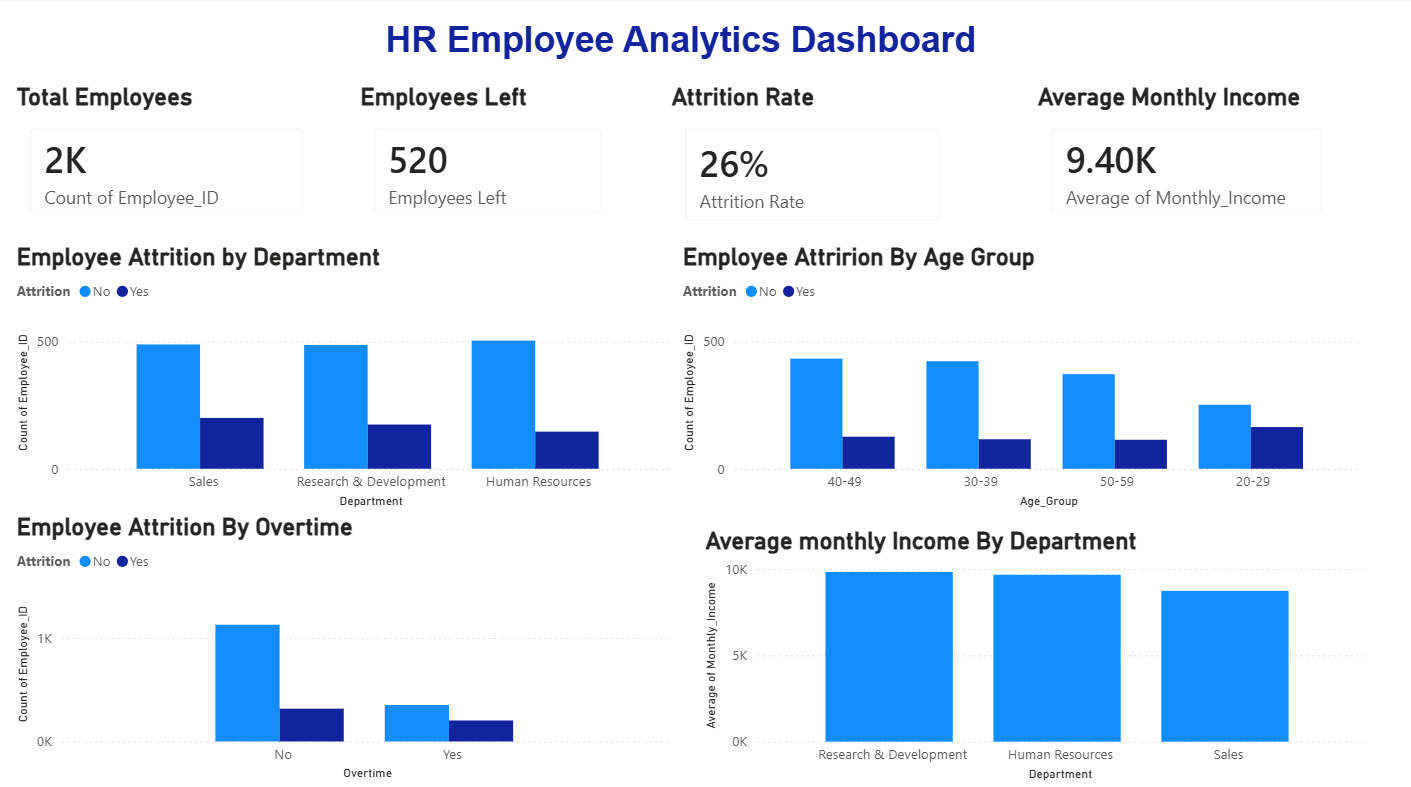

What the dashboard file says about the page in this screenshot:
{"tool":"powerbi","page":{"name":"Page 1","canvas":[1280,720],"ordinal":0},"visuals":[{"type":"cardVisual","title":"Total Employees","fields":{"Data":["CountNonNull(HR_Data.Employee_ID)"]},"box":[9.8,78.3,280,133.3],"z":0},{"type":"cardVisual","title":"Employees Left","fields":{"Data":["HR_Data.Employees Left"]},"box":[320.4,78.3,239.7,133.3],"z":2},{"type":"cardVisual","title":"Attrition Rate","fields":{"Data":["HR_Data.Attrition Rate"]},"box":[600.4,78.3,264.1,141.8],"z":3},{"type":"cardVisual","title":"Average Monthly Income","fields":{"Data":["Avg(HR_Data.Monthly_Income)"]},"box":[930.6,78.3,278.8,133.3],"z":4},{"type":"clusteredColumnChart","title":"Employee Attrition by Department","fields":{"Category":["HR_Data.Department"],"Series":["HR_Data.Attrition"],"Y":["CountNonNull(HR_Data.Employee_ID)"]},"box":[9.8,222.6,601.6,243.3],"z":5},{"type":"clusteredColumnChart","title":"Employee Attririon By Age Group","fields":{"Category":["HR_Data.Age_Group"],"Series":["HR_Data.Attrition"],"Y":["CountNonNull(HR_Data.Employee_ID)"]},"box":[611.4,222.6,622.4,243.3],"z":6},{"type":"clusteredColumnChart","title":"Employee Attrition By Overtime","fields":{"Category":["HR_Data.Overtime"],"Series":["HR_Data.Attrition"],"Y":["CountNonNull(HR_Data.Employee_ID)"]},"box":[9.8,465.9,601.6,245.8],"z":7},{"type":"clusteredColumnChart","title":"Average monthly Income By Department","fields":{"Category":["HR_Data.Department"],"Y":["Avg(HR_Data.Monthly_Income)"]},"box":[631,478.1,602.9,233.6],"z":8},{"type":"textbox","box":[342.4,15.9,727.6,62.4],"z":9}]}

Visuals, with their boxes in screenshot pixels (x1, y1, x2, y2), scaled from the page's 1280x720 canvas onto the 1411x787 screenshot:
"Total Employees" cardVisual: box=[11, 86, 319, 231]
"Employees Left" cardVisual: box=[353, 86, 617, 231]
"Attrition Rate" cardVisual: box=[662, 86, 953, 241]
"Average Monthly Income" cardVisual: box=[1026, 86, 1333, 231]
"Employee Attrition by Department" clusteredColumnChart: box=[11, 243, 674, 509]
"Employee Attririon By Age Group" clusteredColumnChart: box=[674, 243, 1360, 509]
"Employee Attrition By Overtime" clusteredColumnChart: box=[11, 509, 674, 778]
"Average monthly Income By Department" clusteredColumnChart: box=[696, 523, 1360, 778]
textbox: box=[377, 17, 1180, 86]
